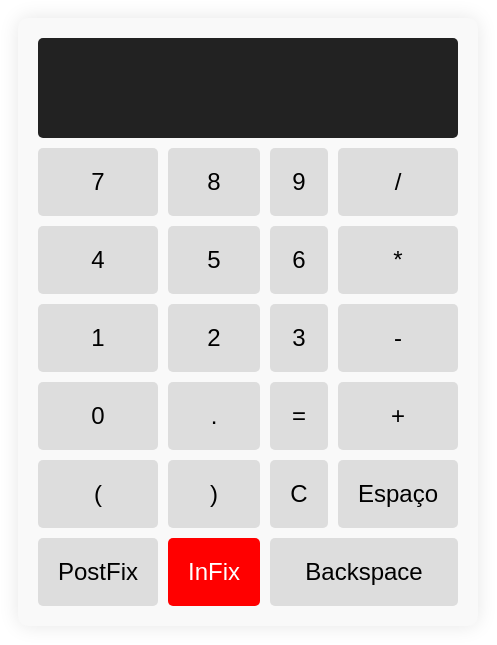
Test: convert infix expression to postfix
The width and height of the screenshot is (497, 645).
Click the button "1": (98, 338) [38, 304, 158, 372]
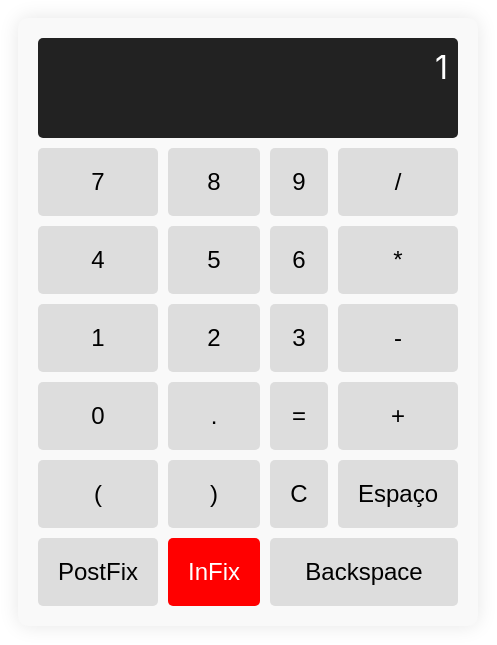
Click the button "+": (398, 416) [338, 382, 458, 450]
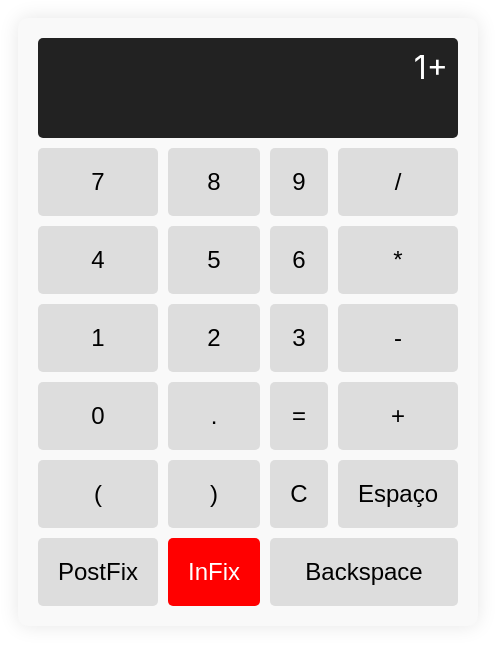
Click the button "2": (214, 338) [168, 304, 260, 372]
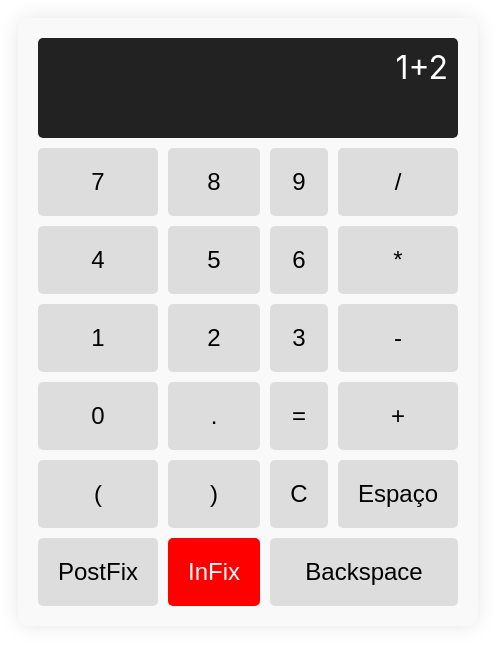
Click the button "*": (398, 260) [338, 226, 458, 294]
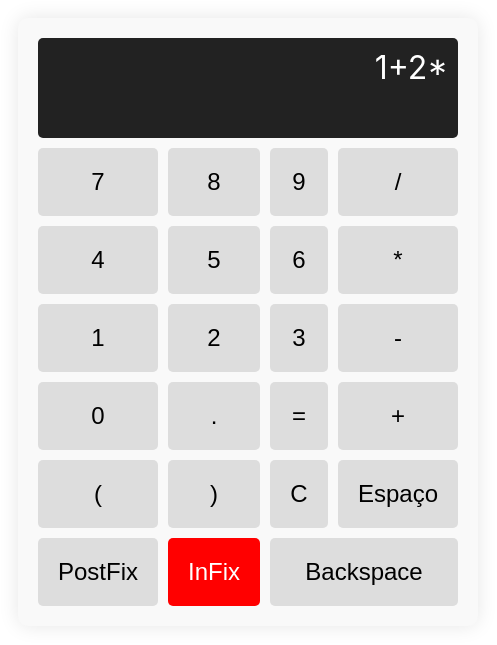
Click the button "3": (299, 338) [270, 304, 328, 372]
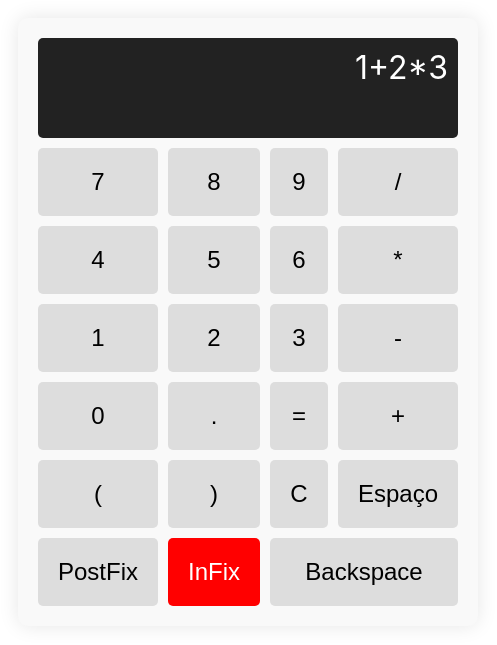
Click the button "PostFix": (98, 572) [38, 538, 158, 606]
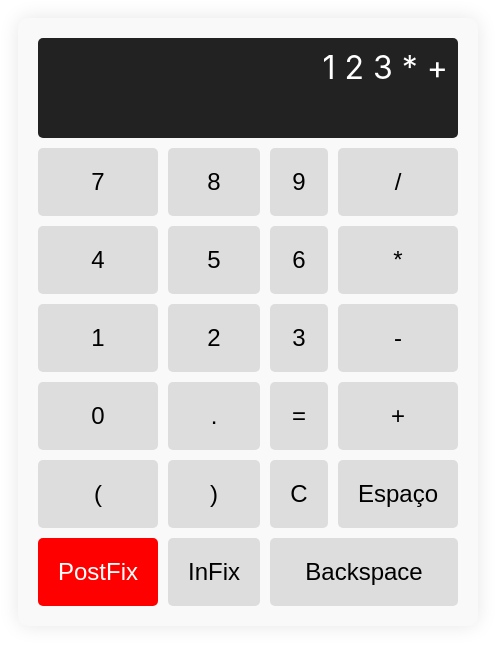
Check: the text "1 2 3 * +" is shown, box [38, 38, 458, 138]
